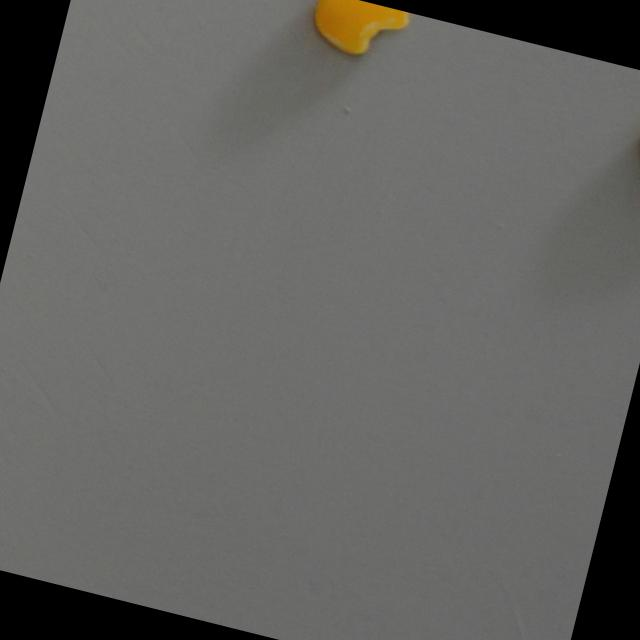no_canjicado: (299, 0, 413, 70)
